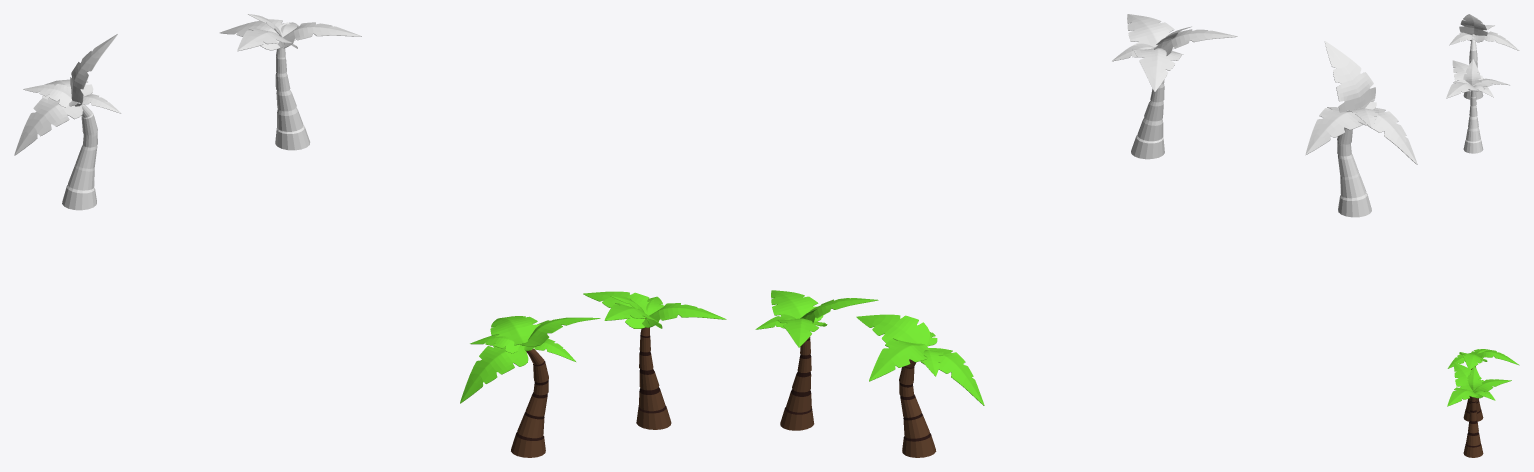
File: palm.fbx
3 views of the same model, side by side, from view 1: azimuth 30°, elevation 25°; view 2: azimuth 150°, elevation 25°; view 3: azimuth 270°, elevation 25° (orthographic). The views are drawn at different scales.
Parts seen in each view (by area): view 1: Circle.002, Circle, Circle.003, Circle.001, Circle.004, Plane.002, Plane.001, Circle.006, Circle.009, Circle.012, Plane.006, Circle.005; view 2: Circle.002, Plane.001, Circle, Circle.003, Circle.001, Circle.005, Plane.003, Circle.006, Plane.008, Plane.006, Circle.004, Circle.009 (+3 smaller); view 3: Circle.001, Circle.003, Plane.001, Circle.011, Plane.003, Circle.009, Circle, Plane.010, Plane.007, Plane.006, Circle.012, Circle.002 (+8 smaller).
Boxes of the visible parts, x1,y1,x2,y2 form: Circle.002: (511,349,548,457); Circle: (62,104,97,210); Circle.003: (636,318,671,429); Circle.001: (275,48,310,150); Circle.004: (460,344,528,403); Plane.002: (14,98,82,155); Plane.001: (70,34,117,106); Circle.006: (490,316,540,345); Circle.009: (642,303,726,327); Circle.012: (583,291,653,328); Plane.006: (277,22,361,48); Circle.005: (522,317,600,346); Circle.002: (899,359,936,457); Plane.001: (1324,41,1375,112); Circle: (1337,128,1371,217); Circle.003: (780,337,814,430); Circle.001: (1131,80,1164,159); Circle.005: (856,314,929,345); Plane.003: (1305,107,1367,154); Circle.006: (869,338,929,381); Plane.008: (1132,48,1183,91); Plane.006: (1127,14,1174,48); Circle.004: (920,348,984,405); Circle.009: (771,290,823,328); Circle.001: (1463,90,1483,153); Circle.003: (1463,397,1483,457); Plane.001: (1459,14,1487,35); Circle.011: (1454,362,1483,391); Plane.003: (1474,31,1519,50); Circle.009: (1447,387,1482,406); Circle: (1463,34,1483,99); Plane.010: (1463,59,1481,85); Plane.007: (1452,60,1482,84); Plane.006: (1446,80,1480,98); Circle.012: (1470,379,1511,398); Circle.002: (1463,366,1483,421).
Bounding box in the file's own units: 1251 × 909 × 207.
